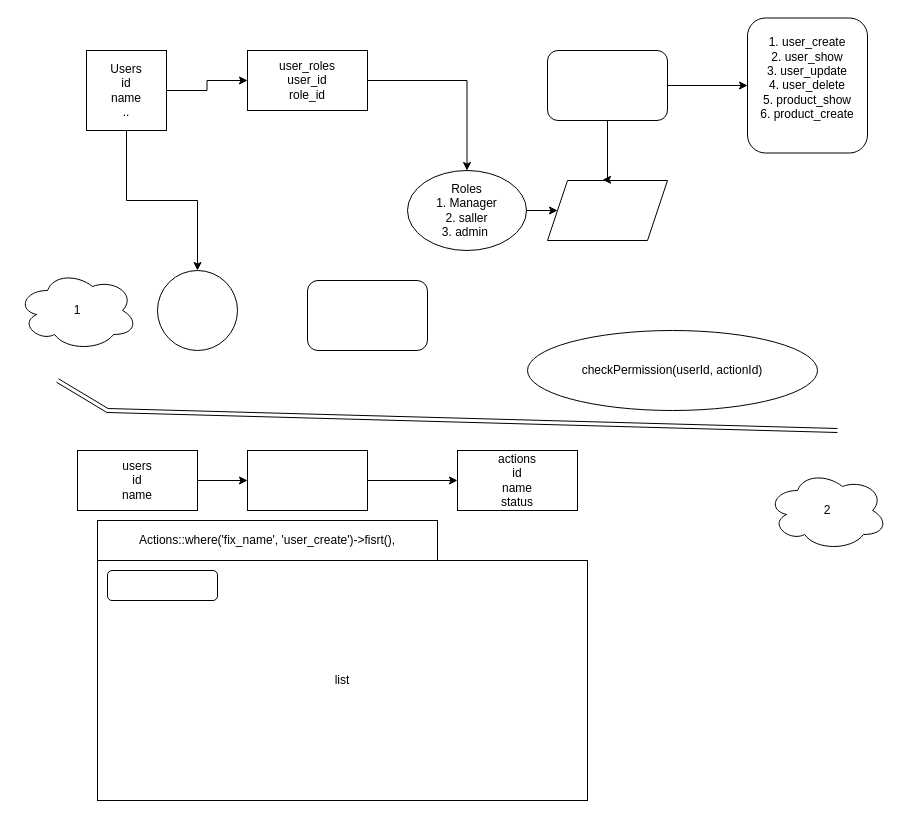
The diagram is 905 pixels wide and 818 high, and some of its shapes have lost their labels. Each missing label, with the centre of its shape:
Actions id name status fix_name: pixel 607 85
Ahmadjon: pixel 197 310
Manager, Saller, admin: pixel 367 315
role_actions role_id action_id: pixel 607 210
user create btn: pixel 162 585
user_actions user_id action_id: pixel 307 480
